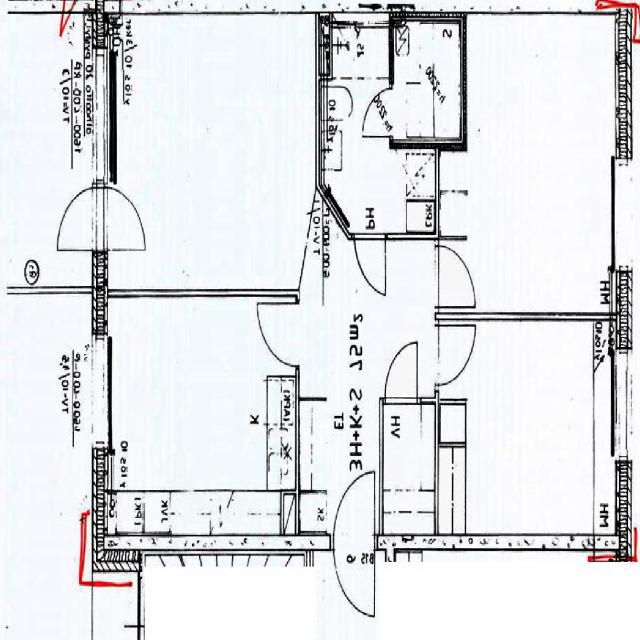door: (54, 188, 108, 250), (92, 188, 146, 250), (334, 534, 375, 615), (334, 468, 375, 548), (257, 303, 299, 365), (435, 246, 476, 307), (435, 325, 475, 385), (385, 346, 417, 404), (355, 233, 385, 288), (360, 88, 392, 136)
